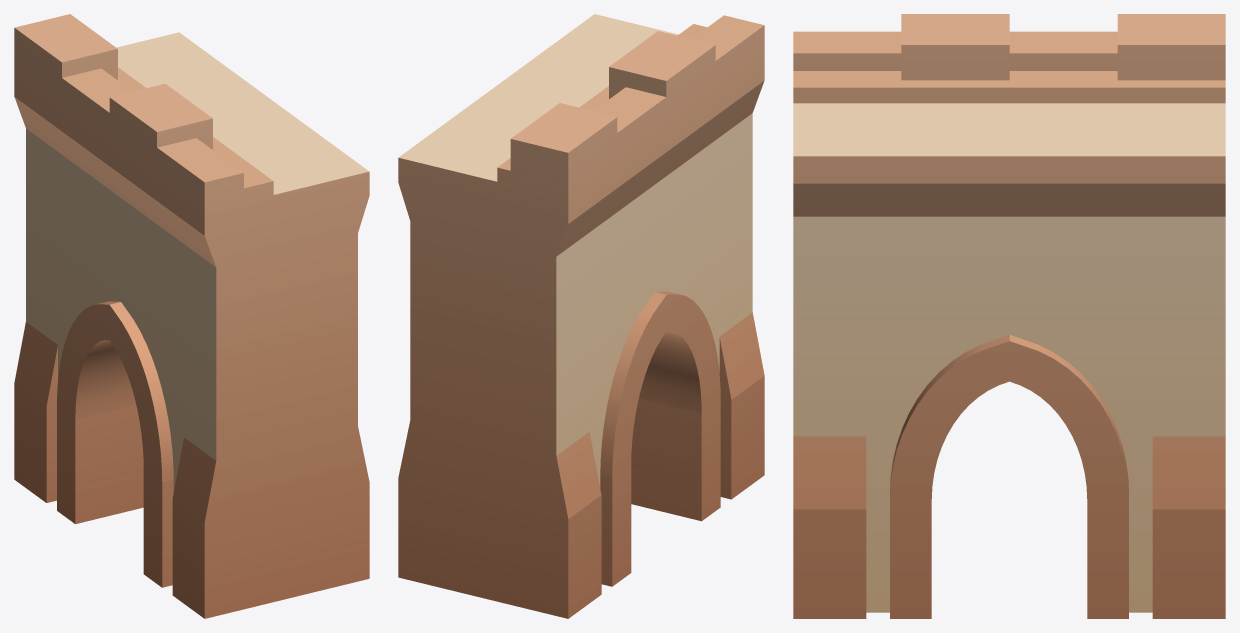
Rendered from wall-doorway.obj.
3 renders of one model, left to right at view 1: azimuth 30°, elevation 25°; view 2: azimuth 150°, elevation 25°; view 3: azimuth 270°, elevation 25°, orthographic. The views are drawn at different scales.
Visible parts, largest first — view 1: wall-doorway; view 2: wall-doorway; view 3: wall-doorway.
Boxes of the visible parts, bbox=[...] form: wall-doorway: bbox=[14, 14, 369, 618]; wall-doorway: bbox=[398, 14, 764, 618]; wall-doorway: bbox=[793, 14, 1225, 618].
Bounding box in the file's own units: 0.5 × 1.31 × 1.
Materials: 1 (1 with a texture image).
